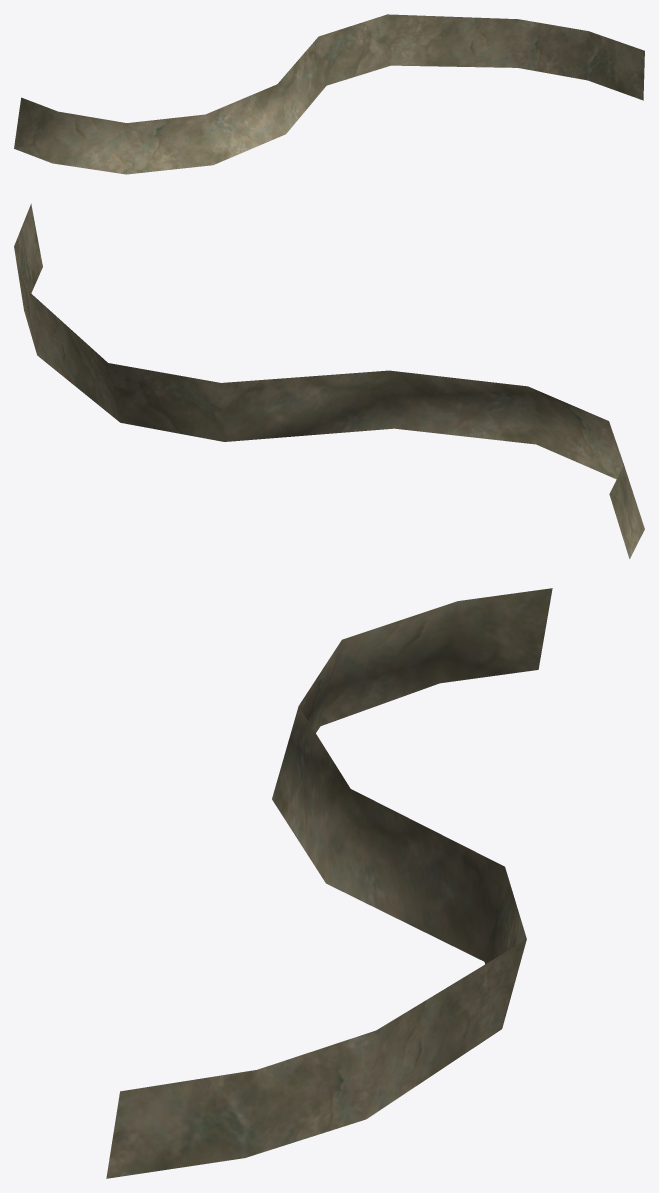
Rendered from EKH_CAVERNS_PS_CA_WALL_TRIM7279.fbx.
The picture shows the model from 3 angles, top to bottom: view 1: azimuth 30°, elevation 25°; view 2: azimuth 150°, elevation 25°; view 3: azimuth 270°, elevation 25°; orthographic projection. The views are drawn at different scales.
Parts seen in each view (by area): view 1: EKH_CAVERNS_PS_CA_WALL_TRIM7279; view 2: EKH_CAVERNS_PS_CA_WALL_TRIM7279; view 3: EKH_CAVERNS_PS_CA_WALL_TRIM7279.
Part boxes in pixels (bbox=[...]): EKH_CAVERNS_PS_CA_WALL_TRIM7279: bbox=[14, 14, 644, 174]; EKH_CAVERNS_PS_CA_WALL_TRIM7279: bbox=[14, 203, 644, 558]; EKH_CAVERNS_PS_CA_WALL_TRIM7279: bbox=[106, 588, 552, 1178].
Bounding box in the file's own units: 86481 × 7239 × 31751.
Materials: 1 (1 with a texture image).
